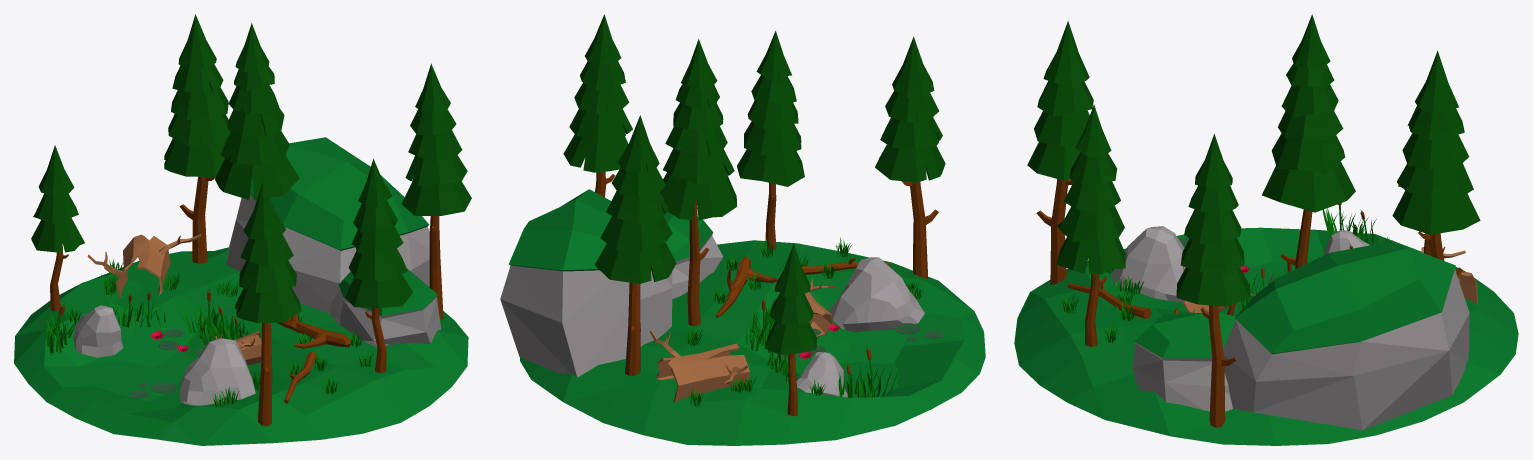
Rendered from stagno.fbx.
3 renders of one model, left to right at view 1: azimuth 30°, elevation 25°; view 2: azimuth 150°, elevation 25°; view 3: azimuth 270°, elevation 25°, orthographic. The views are drawn at different scales.
Visible parts, largest first — view 1: Stagno; view 2: Stagno; view 3: Stagno.
Part boxes in pixels (x1,y1,x2,y2): Stagno: (14, 14, 471, 445); Stagno: (500, 14, 985, 445); Stagno: (1014, 14, 1518, 445).
Size of the model in its own units: 1754 by 1336 by 1726.
